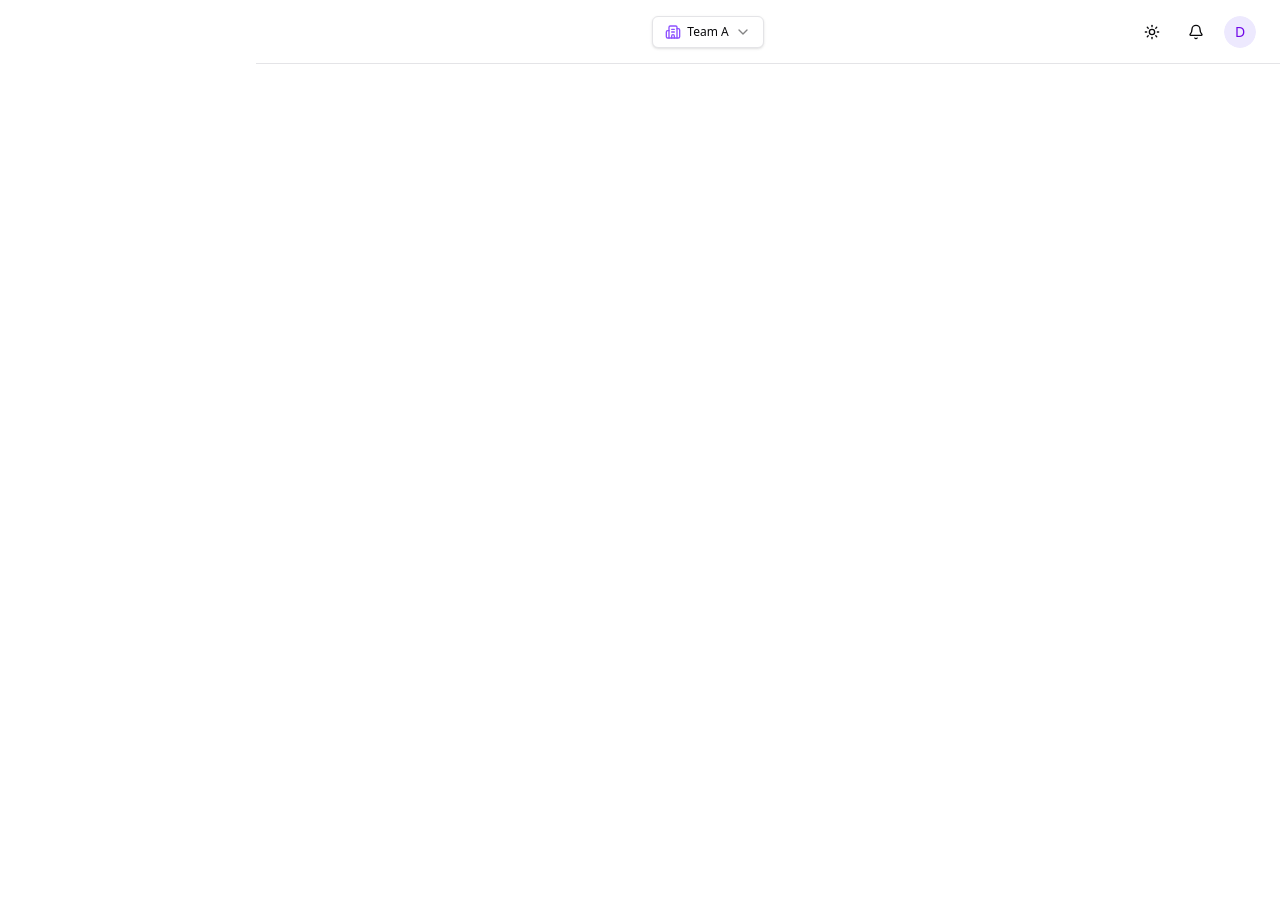
Header — New Workspace dialog v2 › previews the slug live as you type (mirroring the backend)
This screenshot has width=1280, height=900.
Expected: the text "Team A" is shown, [687,24,729,40]
Click the button with aria-label "switch workspace": point(708, 32) [652,16,764,48]
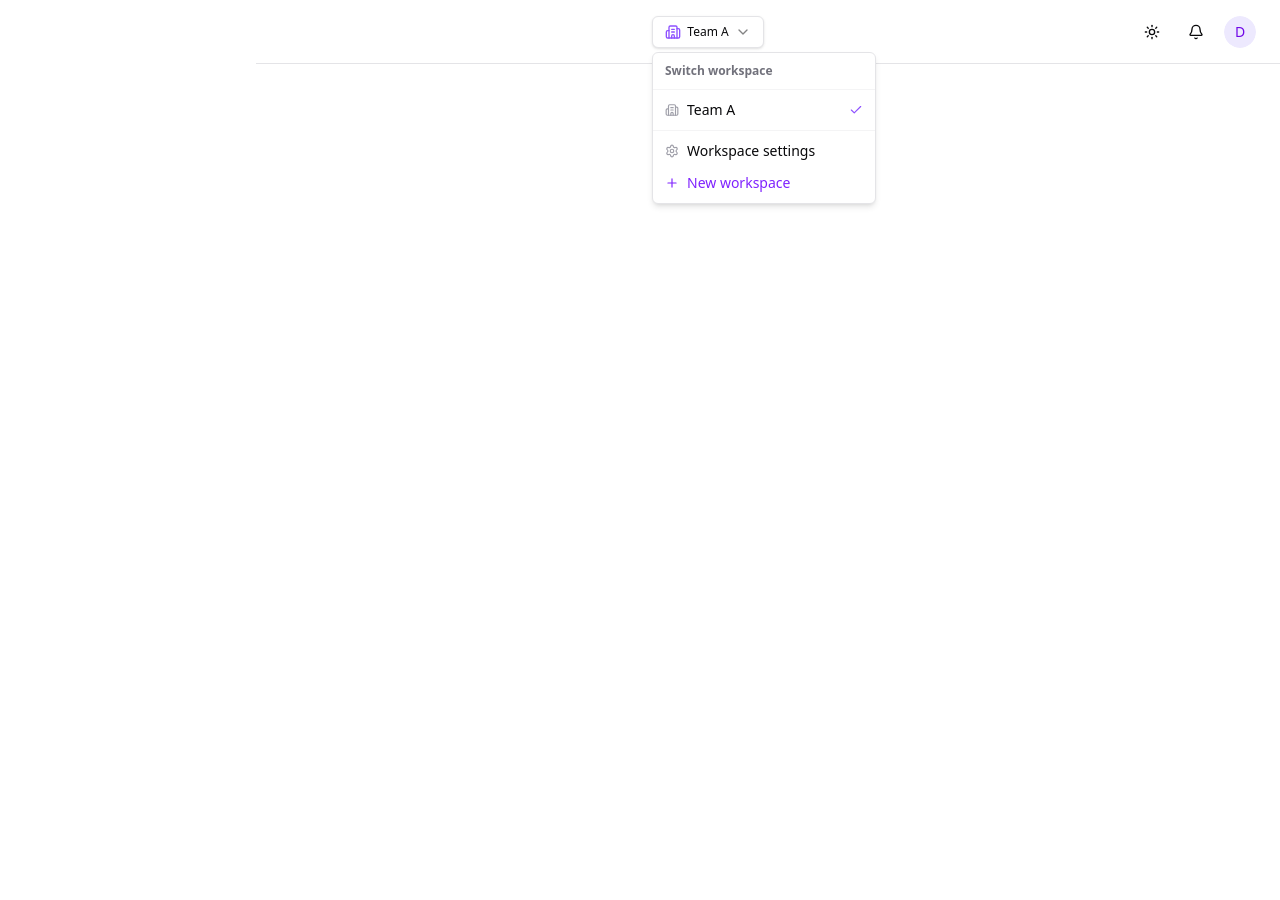
Click the menu item "New workspace": point(728, 182) [665,173,790,192]
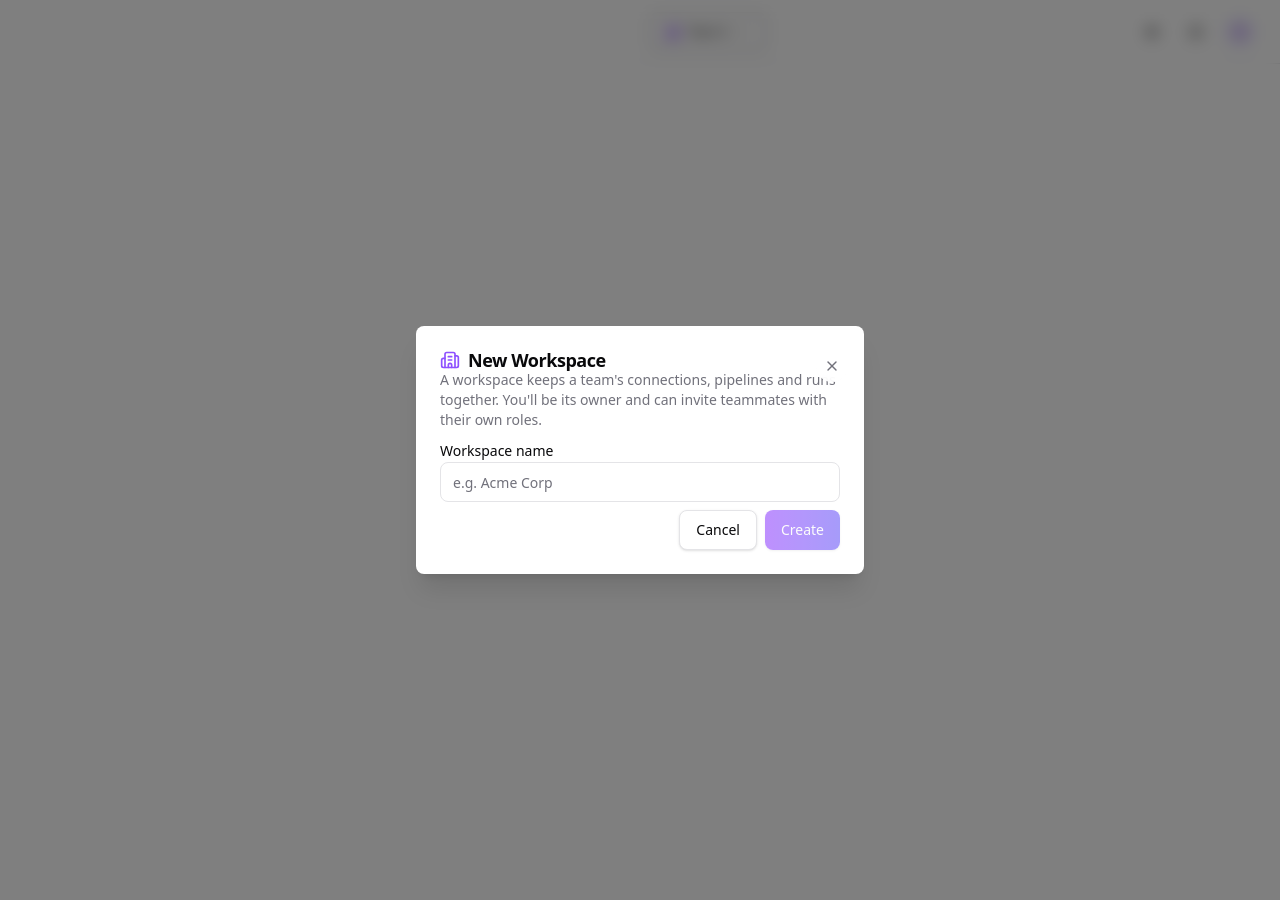
In the field with placeholder "e.g. Acme Corp": point(640, 482) [440,462,840,502], type "Acme Corp"
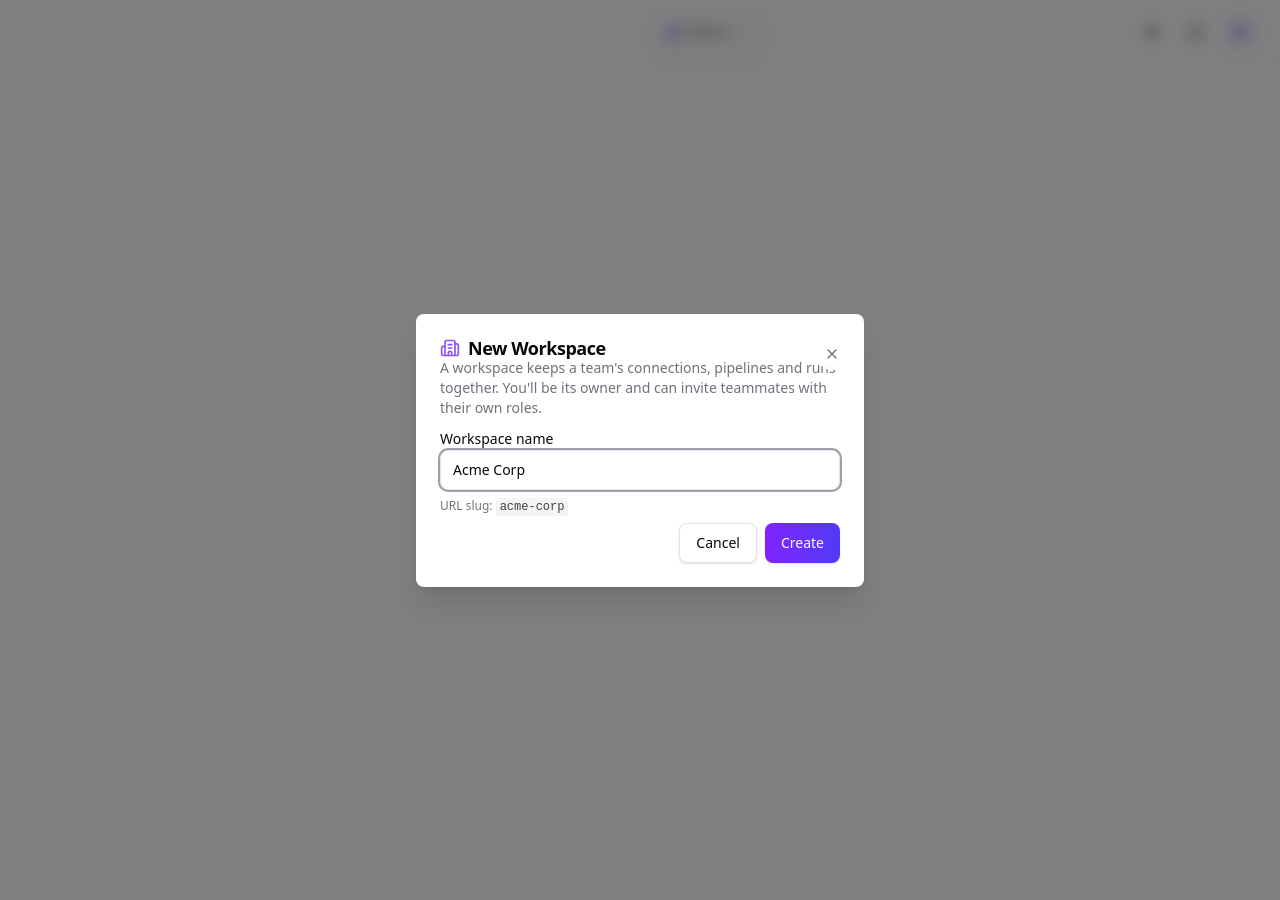
Expected: the element with test id "slug-preview" shows "acme-corp", [500,500,564,514]
